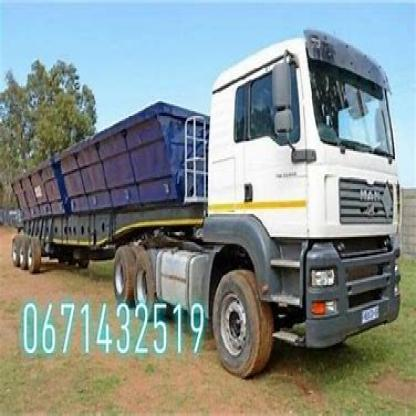dump_truck: (6, 30, 402, 389)
